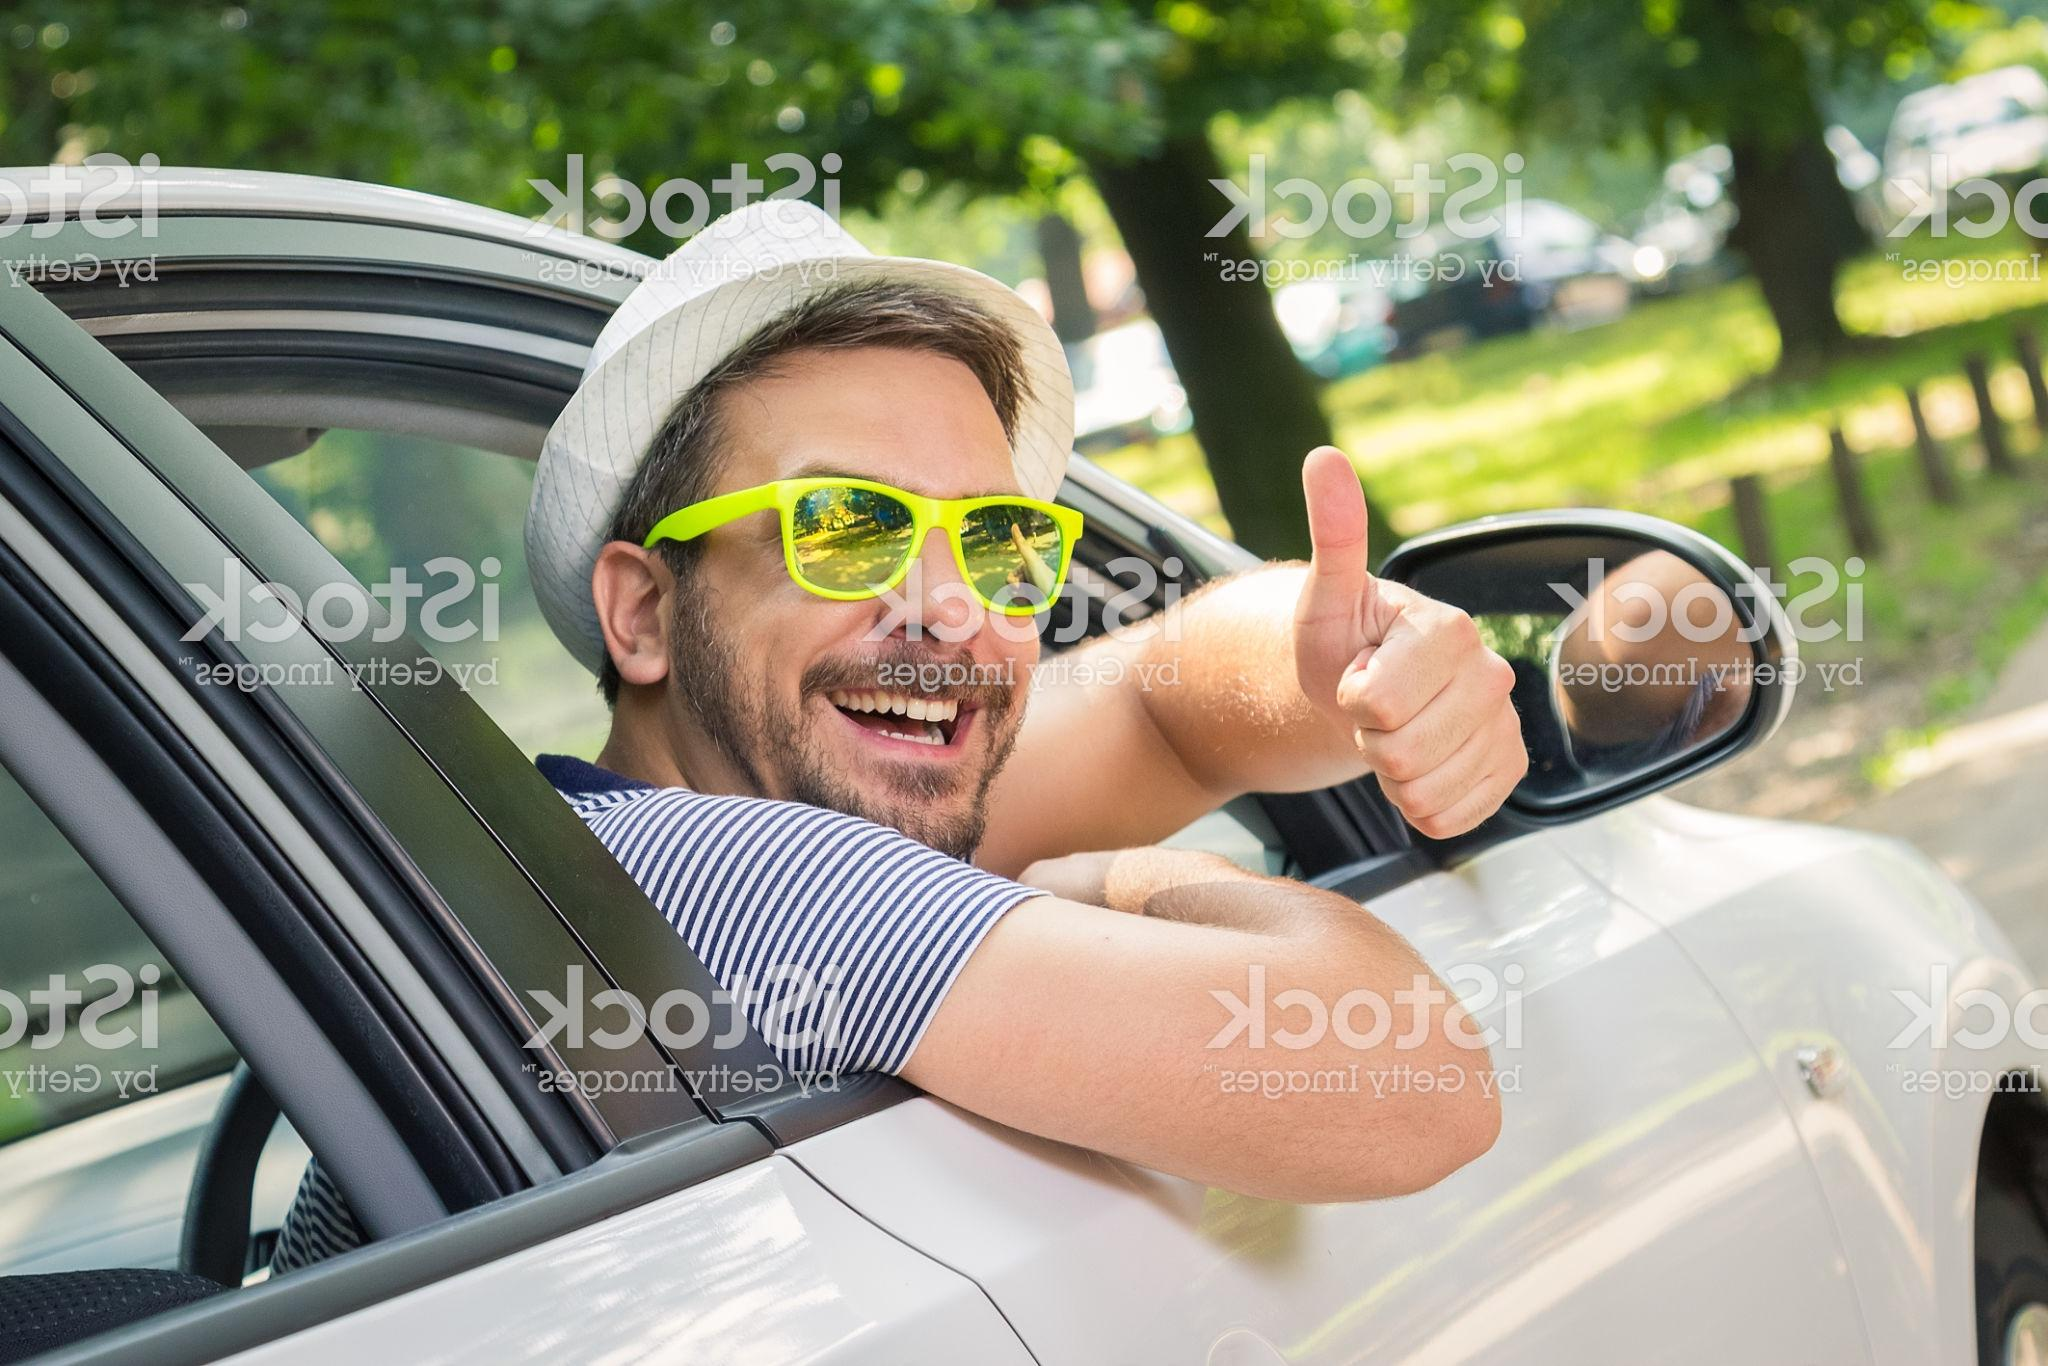thumbsup: (1289, 439, 1533, 846)
